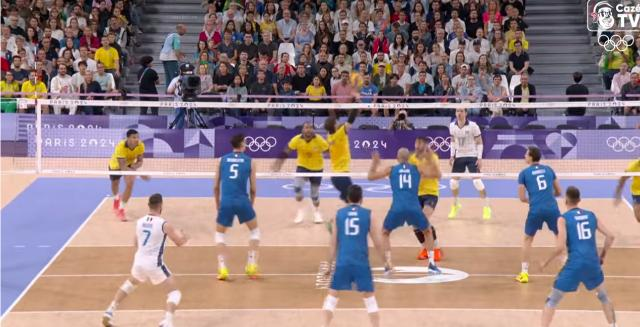Levantador: (516, 146, 562, 238), (326, 117, 352, 193)
Libero: (126, 192, 180, 314), (448, 104, 490, 224)
bola: (348, 70, 364, 90)
